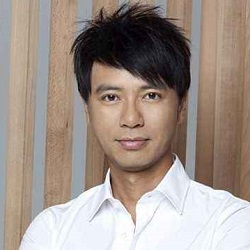unmask: (81, 68, 181, 171)
